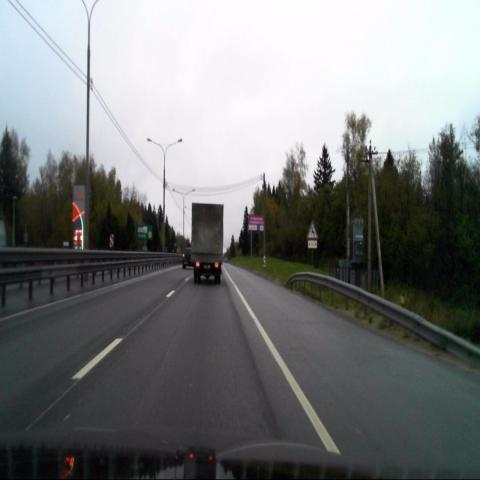1_27: (306, 221, 318, 239)
